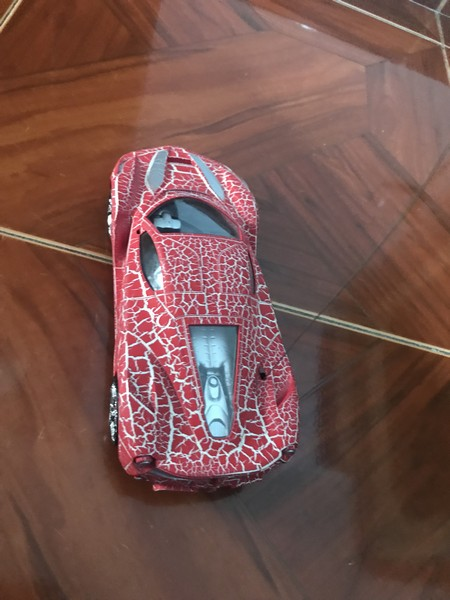RC: (104, 144, 303, 500)
